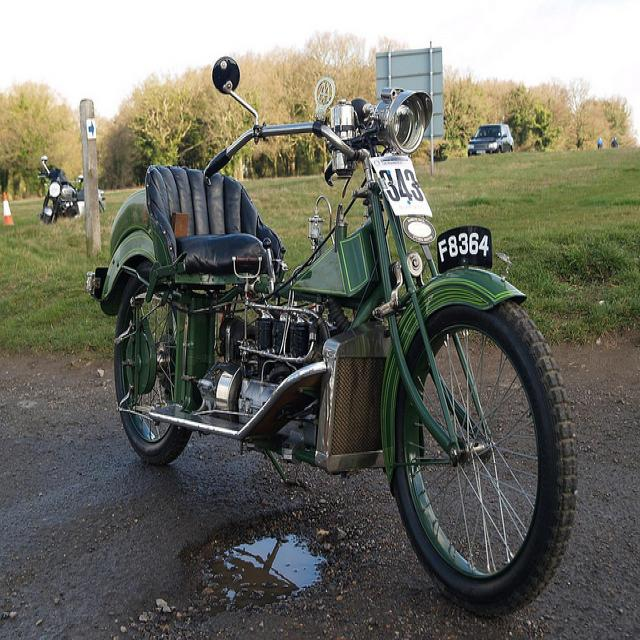motor: (83, 49, 581, 624), (37, 154, 108, 230)
